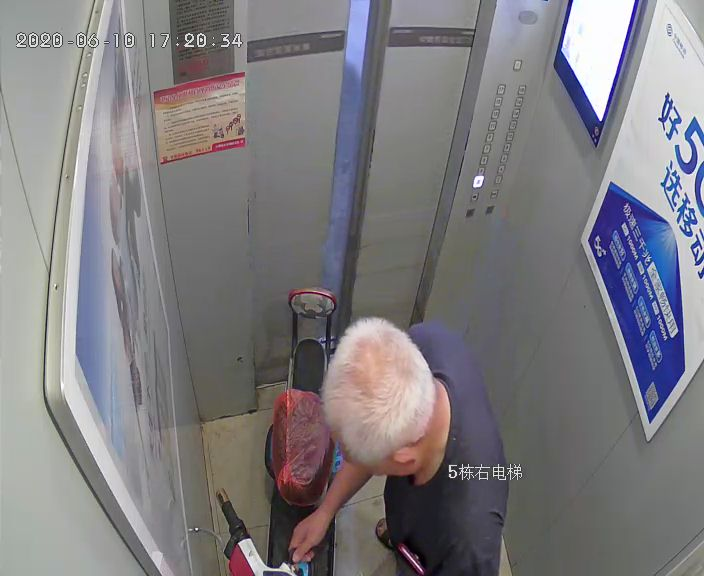Electric-bicycle: (214, 284, 339, 576)
